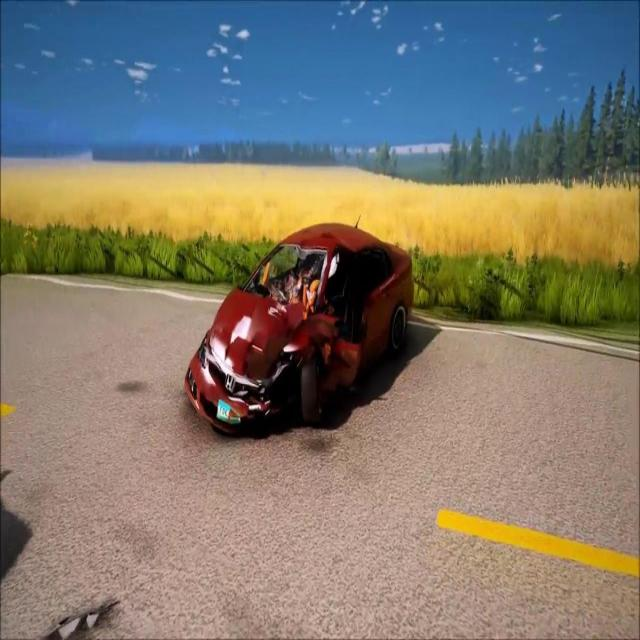severe: (180, 212, 418, 446)
